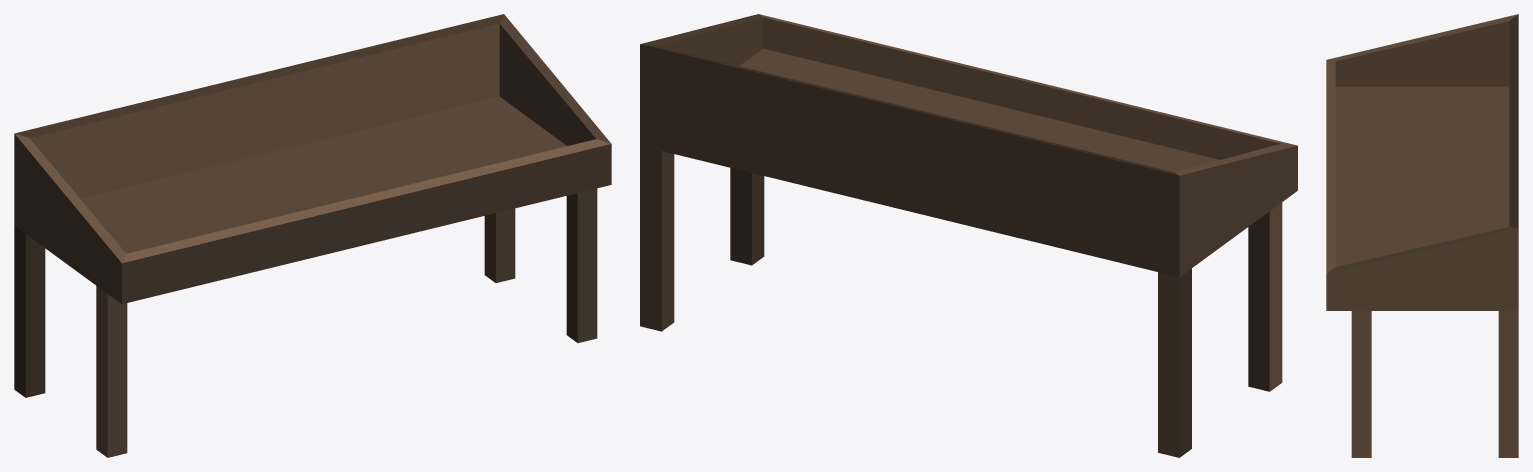
File: Prop_MerchantTableD.fbx
3 views of the same model, side by side, from view 1: azimuth 30°, elevation 25°; view 2: azimuth 150°, elevation 25°; view 3: azimuth 270°, elevation 25° (orthographic). The views are drawn at different scales.
Visible parts, largest first — view 1: Prop_MerchantTableD; view 2: Prop_MerchantTableD; view 3: Prop_MerchantTableD.
Part boxes in pixels (bbox=[...]): Prop_MerchantTableD: bbox=[14, 14, 611, 457]; Prop_MerchantTableD: bbox=[640, 14, 1297, 457]; Prop_MerchantTableD: bbox=[1326, 14, 1518, 457].
Bounding box in the file's own units: 250 × 125 × 95.
